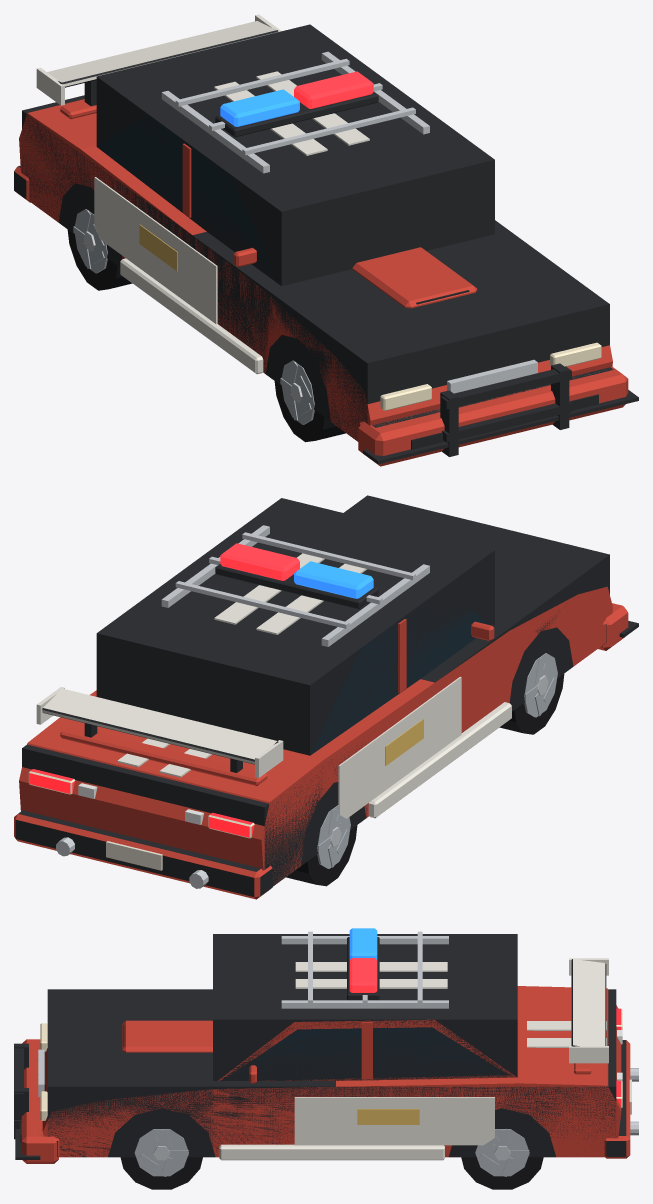
File: VEH_Police.fbx
3 renders of one model, top to bottom at view 1: azimuth 30°, elevation 25°; view 2: azimuth 150°, elevation 25°; view 3: azimuth 270°, elevation 25°, orthographic. The views are drawn at different scales.
Parts seen in each view (by area): view 1: VEH_Police__COL_Cabin, VEH_Police__COL_Body, VEH_Police__BODY, VEH_Police, VEH_Police__WHEEL_FR, VEH_Police__WHEEL_RR, VEH_Police__SIREN_B, VEH_Police__SIREN_R, VEH_Police__LIGHTBAR, VEH_Police__LIGHTS; view 2: VEH_Police__BODY, VEH_Police__COL_Cabin, VEH_Police__COL_Body, VEH_Police, VEH_Police__WHEEL_RR, VEH_Police__WHEEL_FR, VEH_Police__LIGHTS, VEH_Police__SIREN_B, VEH_Police__SIREN_R, VEH_Police__LIGHTBAR; view 3: VEH_Police__BODY, VEH_Police__COL_Cabin, VEH_Police__COL_Body, VEH_Police, VEH_Police__WHEEL_FL, VEH_Police__WHEEL_RL, VEH_Police__SIREN_R, VEH_Police__LIGHTS, VEH_Police__SIREN_B, VEH_Police__LIGHTBAR.
Part boxes in pixels (x1=…): VEH_Police__COL_Cabin: x1=96, y1=24, x2=494, y2=286; VEH_Police__COL_Body: x1=22, y1=95, x2=609, y2=441; VEH_Police__BODY: x1=14, y1=99, x2=613, y2=456; VEH_Police: x1=36, y1=14, x2=638, y2=466; VEH_Police__WHEEL_FR: x1=274, y1=360, x2=345, y2=442; VEH_Police__WHEEL_RR: x1=67, y1=209, x2=132, y2=290; VEH_Police__SIREN_B: x1=220, y1=89, x2=299, y2=126; VEH_Police__SIREN_R: x1=294, y1=71, x2=373, y2=108; VEH_Police__LIGHTBAR: x1=215, y1=92, x2=378, y2=137; VEH_Police__LIGHTS: x1=380, y1=342, x2=601, y2=410; VEH_Police__BODY: x1=14, y1=586, x2=612, y2=899; VEH_Police__COL_Cabin: x1=96, y1=498, x2=494, y2=755; VEH_Police__COL_Body: x1=22, y1=495, x2=609, y2=886; VEH_Police: x1=36, y1=525, x2=638, y2=888; VEH_Police__WHEEL_RR: x1=286, y1=805, x2=357, y2=886; VEH_Police__WHEEL_FR: x1=499, y1=653, x2=564, y2=734; VEH_Police__LIGHTS: x1=28, y1=769, x2=254, y2=838; VEH_Police__SIREN_B: x1=294, y1=561, x2=373, y2=598; VEH_Police__SIREN_R: x1=220, y1=543, x2=299, y2=580; VEH_Police__LIGHTBAR: x1=215, y1=564, x2=378, y2=609; VEH_Police__BODY: x1=14, y1=986, x2=631, y2=1158; VEH_Police__COL_Cabin: x1=213, y1=934, x2=517, y2=1080; VEH_Police__COL_Body: x1=47, y1=989, x2=616, y2=1157; VEH_Police: x1=15, y1=931, x2=638, y2=1163; VEH_Police__WHEEL_FL: x1=120, y1=1129, x2=202, y2=1189; VEH_Police__WHEEL_RL: x1=461, y1=1129, x2=543, y2=1189; VEH_Police__SIREN_R: x1=349, y1=958, x2=377, y2=992; VEH_Police__LIGHTS: x1=40, y1=1008, x2=622, y2=1120; VEH_Police__SIREN_B: x1=349, y1=928, x2=377, y2=959; VEH_Police__LIGHTBAR: x1=347, y1=937, x2=379, y2=1000.
Size of the model in its own units: 1.98 by 1.64 by 4.99.
